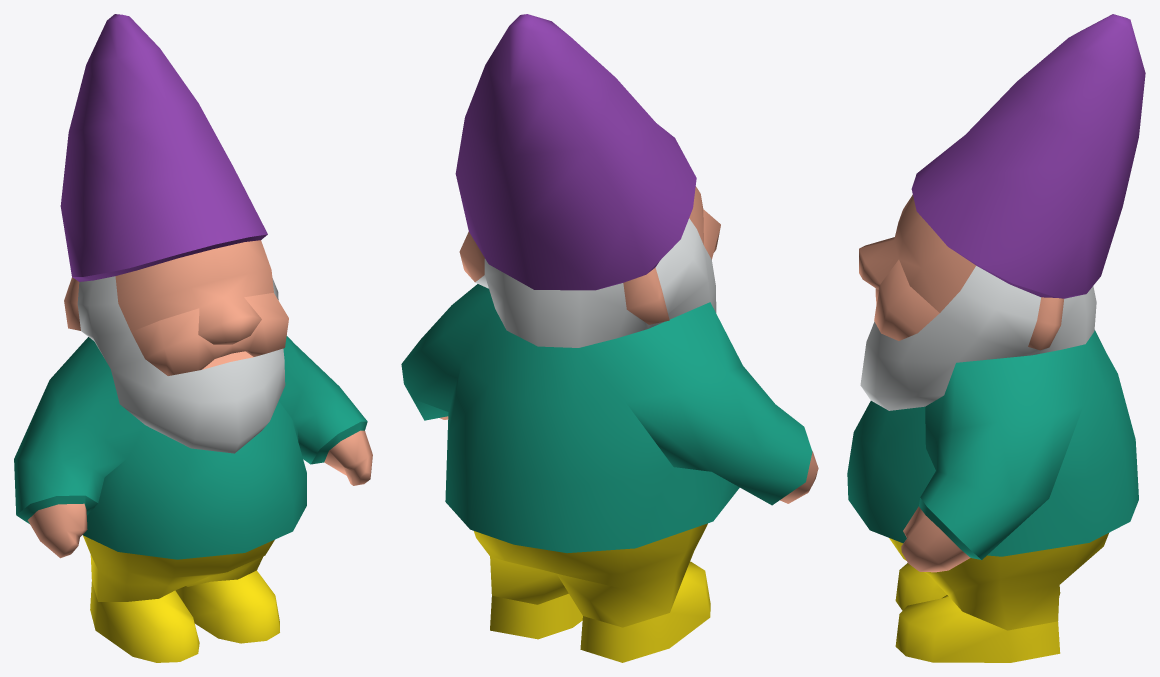
Rendered from gnome01_s02.FBX.
3 views of the same model, side by side, from view 1: azimuth 30°, elevation 25°; view 2: azimuth 150°, elevation 25°; view 3: azimuth 270°, elevation 25° (orthographic). The views are drawn at different scales.
Parts seen in each view (by area): view 1: gnome01_s02; view 2: gnome01_s02; view 3: gnome01_s02.
Part boxes in pixels (x1,y1,x2,y2): gnome01_s02: (14, 14, 372, 662); gnome01_s02: (401, 14, 818, 662); gnome01_s02: (847, 14, 1145, 662).
Bounding box in the file's own units: 109 × 75.01 × 169.
Materials: 1 (1 with a texture image).
